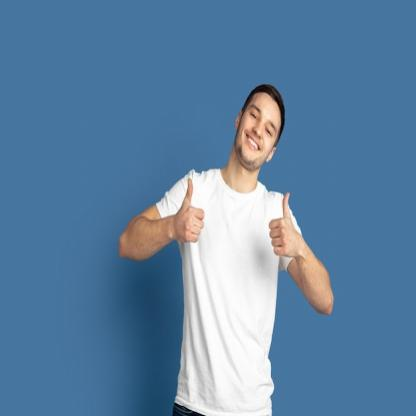thumb_up: (170, 172, 208, 247), (266, 192, 300, 258)
